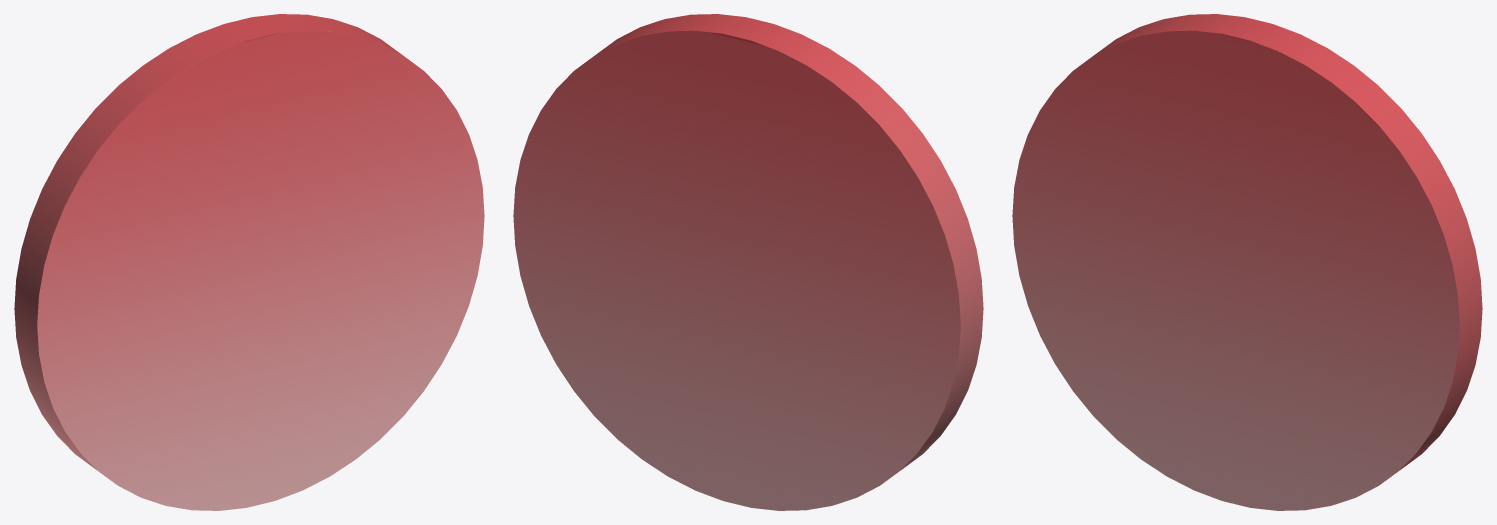
Rendered from backboard.fbx.
The picture shows the model from 3 angles, left to right: view 1: azimuth 30°, elevation 25°; view 2: azimuth 150°, elevation 25°; view 3: azimuth 330°, elevation 25°; orthographic projection.
Parts seen in each view (by area): view 1: backboard; view 2: backboard; view 3: backboard.
Boxes of the visible parts, <box> form: backboard: <box>14,14,484,510</box>; backboard: <box>513,14,983,510</box>; backboard: <box>1012,14,1482,510</box>.
Size of the model in its own units: 340 by 339 by 30.
1 material, 1 textured.
